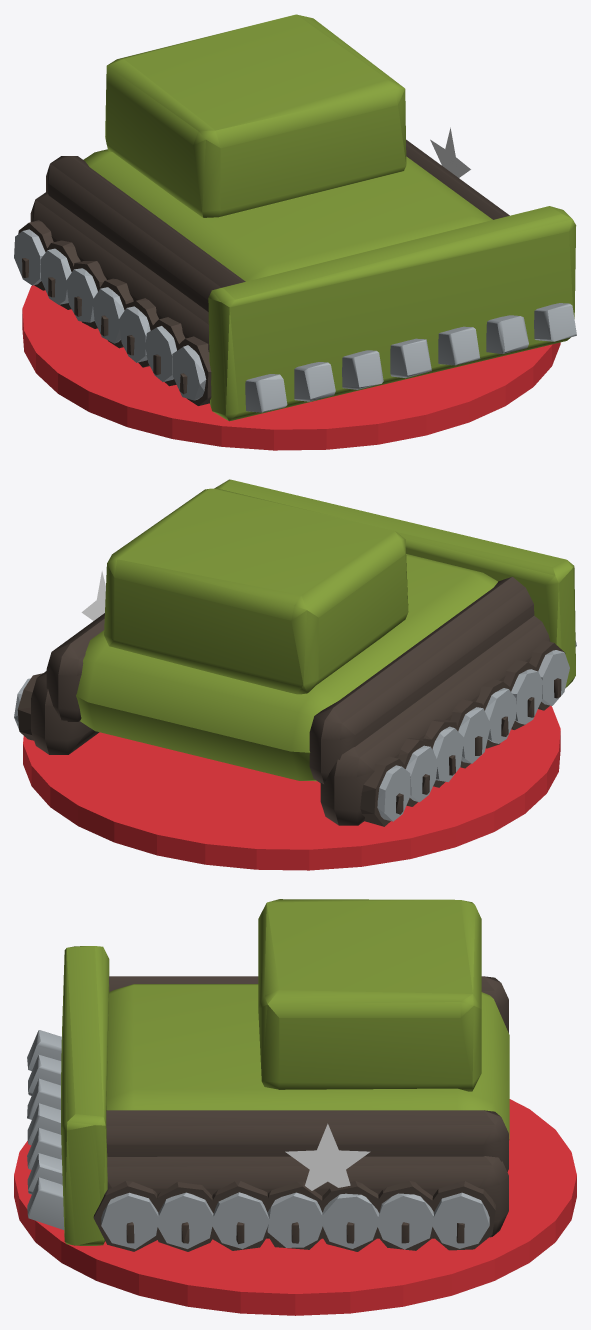
File: usa_engineer_lod0.glb
3 views of the same model, one above another, from view 1: azimuth 30°, elevation 25°; view 2: azimuth 150°, elevation 25°; view 3: azimuth 270°, elevation 25° (orthographic). The views are drawn at different scales.
Visible parts, largest first — view 1: body_hull, base_pedestal; view 2: body_hull, base_pedestal; view 3: body_hull, base_pedestal.
Boxes of the visible parts, box(x1,y1,x2,y2) form: body_hull: box(14, 14, 576, 421); base_pedestal: box(22, 285, 560, 450); body_hull: box(14, 479, 576, 826); base_pedestal: box(23, 705, 560, 870); body_hull: box(27, 899, 509, 1251); base_pedestal: box(14, 1099, 576, 1315).
Bounding box in the file's own units: 0.78 × 0.3851 × 0.78.
